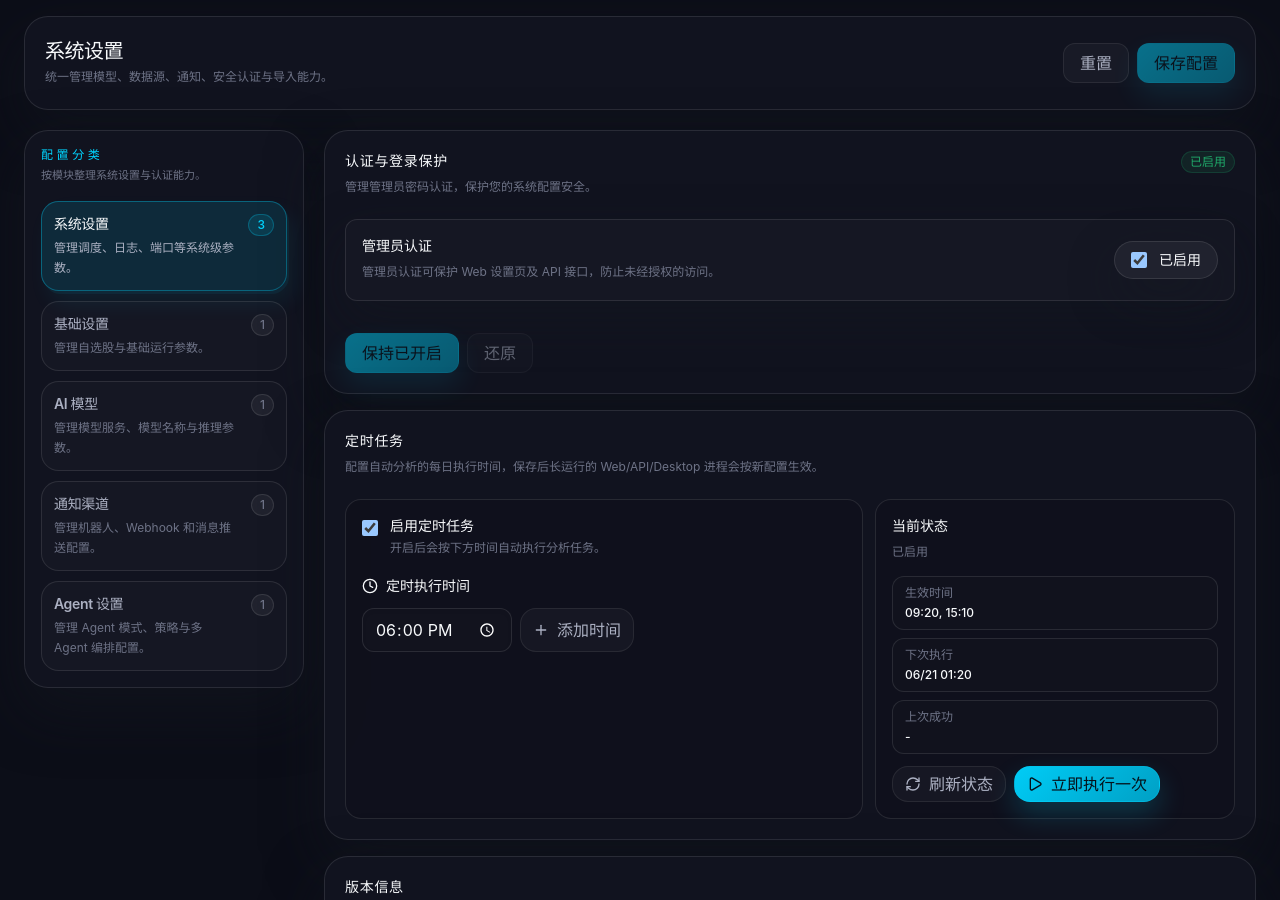
it: SettingsPage › shows an error when run-now is rejected because analysis is already running
The image size is (1280, 900).
Click the button with test id "scheduler-run-now-button" at [1087, 784], box 1014,766 -> 1160,802
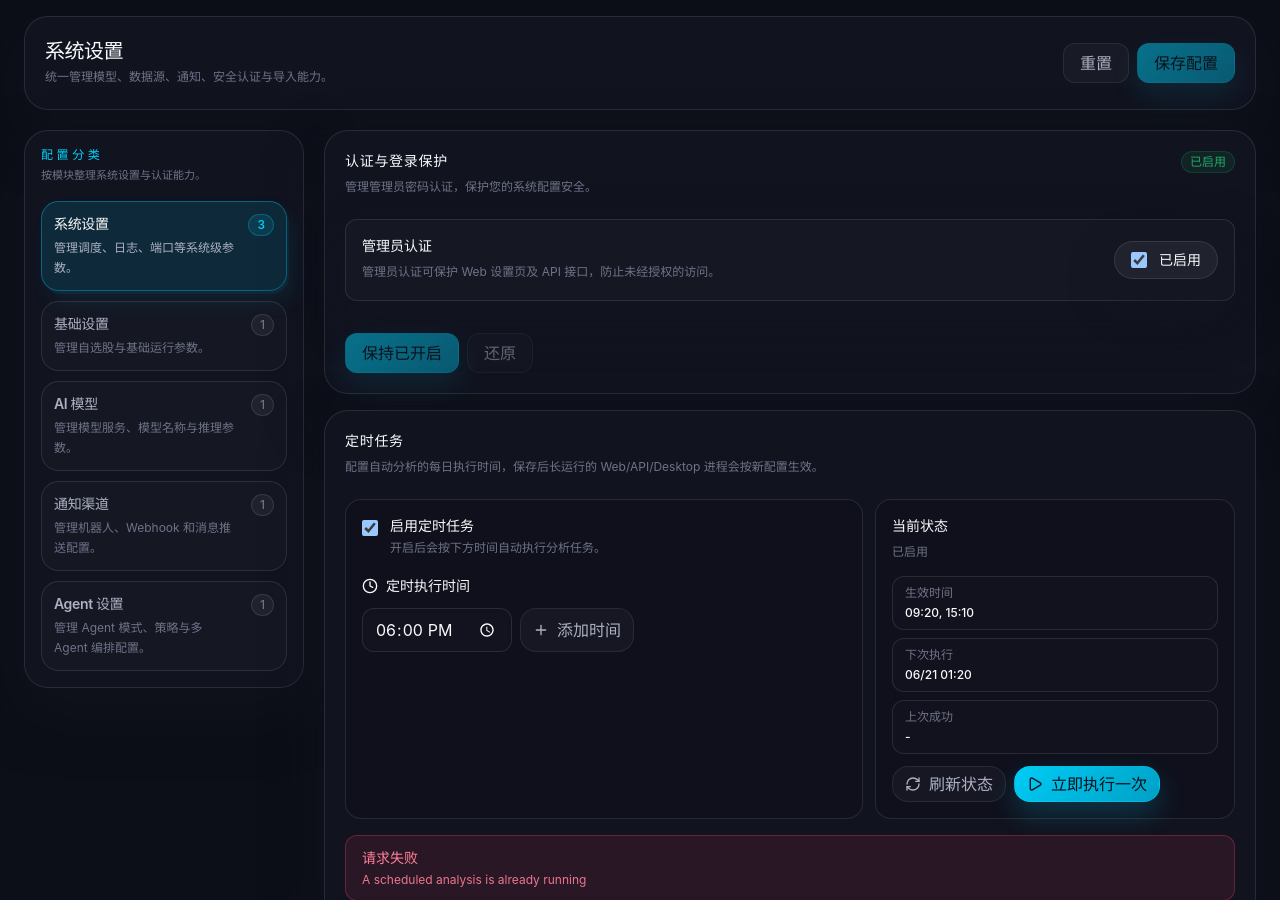
Expected: the text "A scheduled analysis is already running" is shown, 362,872 -> 586,888
